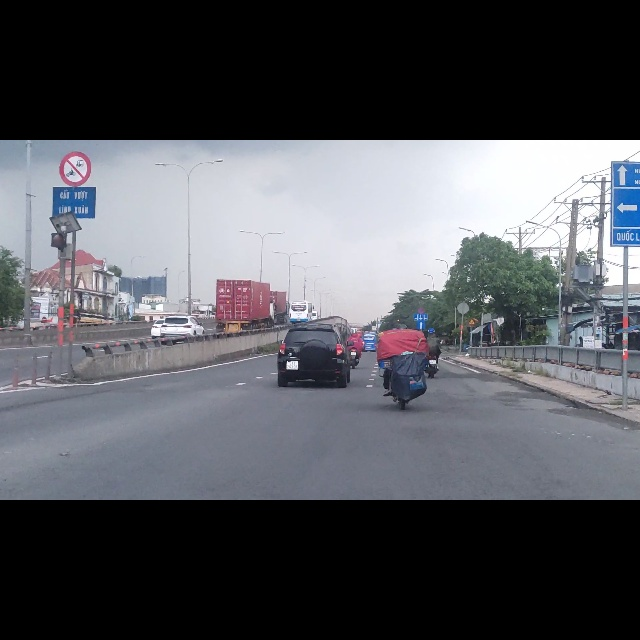bien_nguy_hiem: (60, 21, 91, 82), (416, 321, 426, 337)
